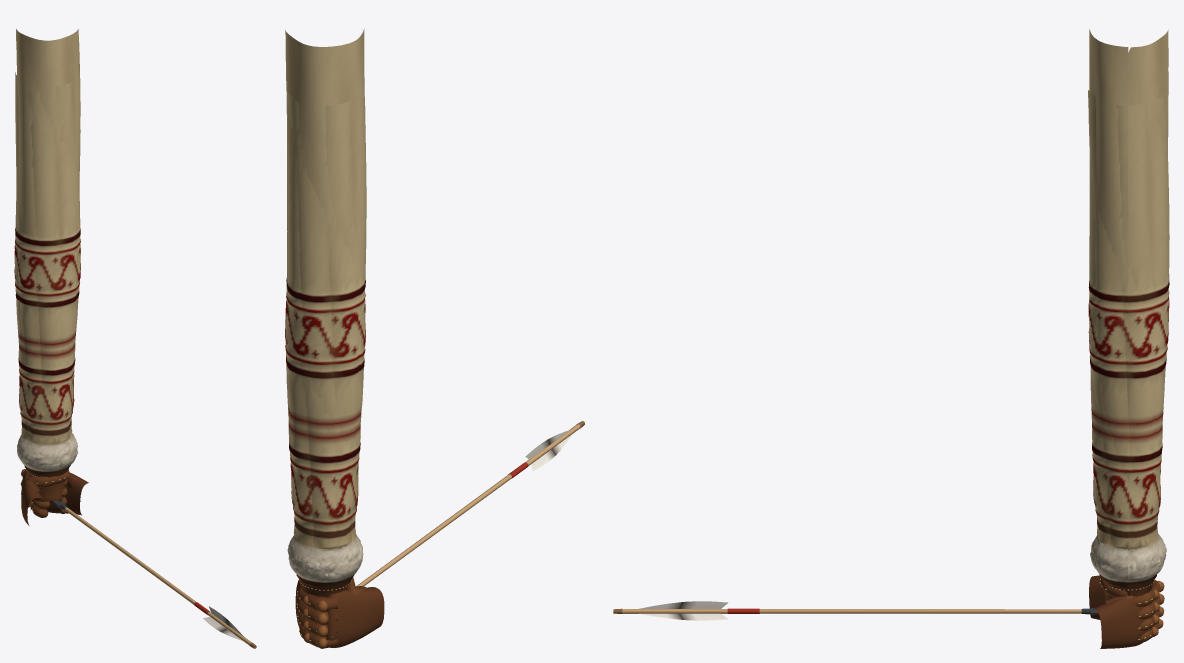
The picture shows the model from 3 angles, left to right: view 1: azimuth 30°, elevation 25°; view 2: azimuth 150°, elevation 25°; view 3: azimuth 270°, elevation 25°; orthographic projection. The views are drawn at different scales.
Parts seen in each view (by area): view 1: recurve-left-sleeve, recurve-right-sleeve, recurve-arrow, recurve-stave, recurve-right-fist; view 2: recurve-left-sleeve, recurve-right-sleeve, recurve-stave, recurve-arrow; view 3: recurve-left-sleeve, recurve-right-sleeve, recurve-arrow, recurve-right-fist, recurve-stave.
Boxes of the visible parts, x1=… form: recurve-left-sleeve: x1=14, y1=29, x2=80, y2=501; recurve-right-sleeve: x1=15, y1=72, x2=80, y2=501; recurve-arrow: x1=53, y1=500, x2=256, y2=648; recurve-stave: x1=20, y1=468, x2=69, y2=526; recurve-right-fist: x1=31, y1=472, x2=88, y2=517; recurve-left-sleeve: x1=285, y1=29, x2=366, y2=596; recurve-right-sleeve: x1=286, y1=90, x2=365, y2=596; recurve-stave: x1=296, y1=577, x2=384, y2=648; recurve-arrow: x1=356, y1=421, x2=584, y2=586; recurve-left-sleeve: x1=1088, y1=29, x2=1168, y2=599; recurve-right-sleeve: x1=1088, y1=90, x2=1169, y2=599; recurve-arrow: x1=613, y1=601, x2=1098, y2=620; recurve-right-fist: x1=1095, y1=589, x2=1159, y2=648; recurve-stave: x1=1089, y1=575, x2=1164, y2=642.
Bounding box in the file's own units: 0.1511 × 1.05 × 0.8673.
